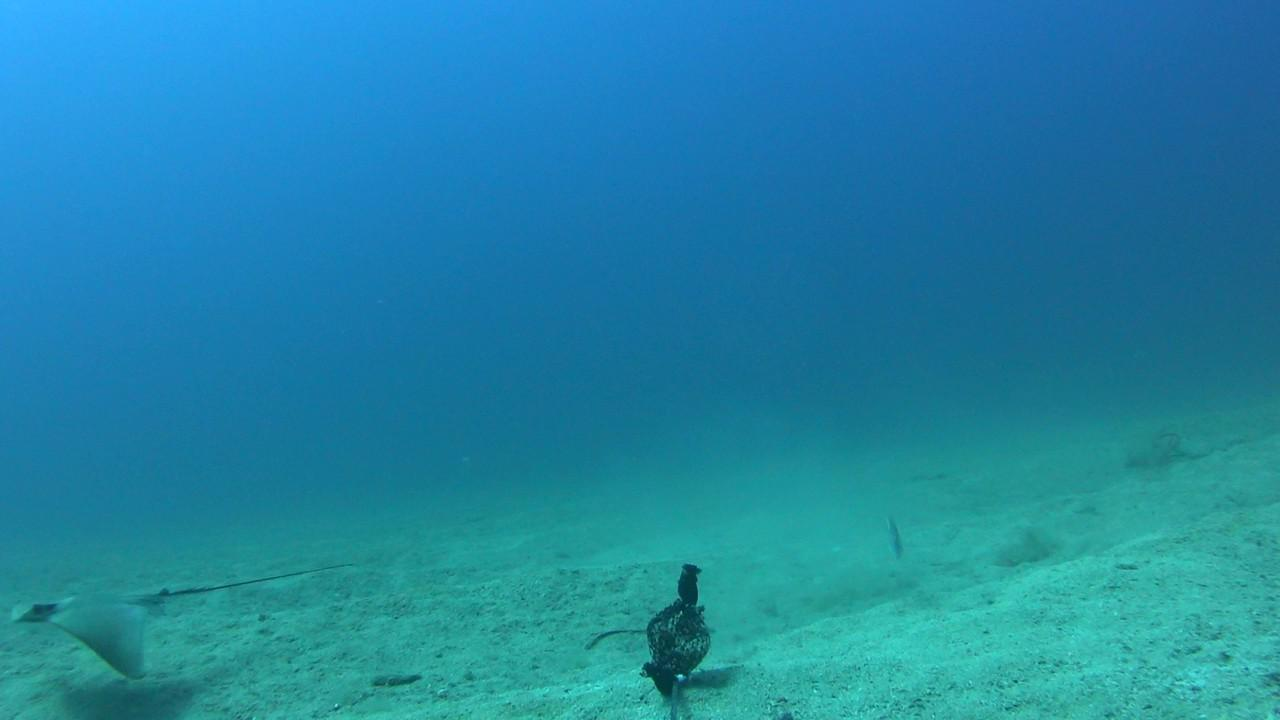myliobatis: (10, 558, 410, 678)
